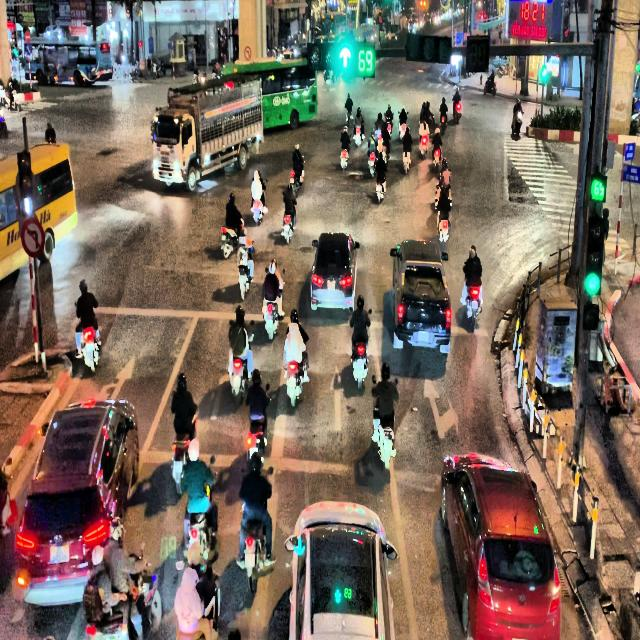lisence_plate: (48, 542, 70, 565), (418, 331, 429, 343), (327, 280, 335, 292)
